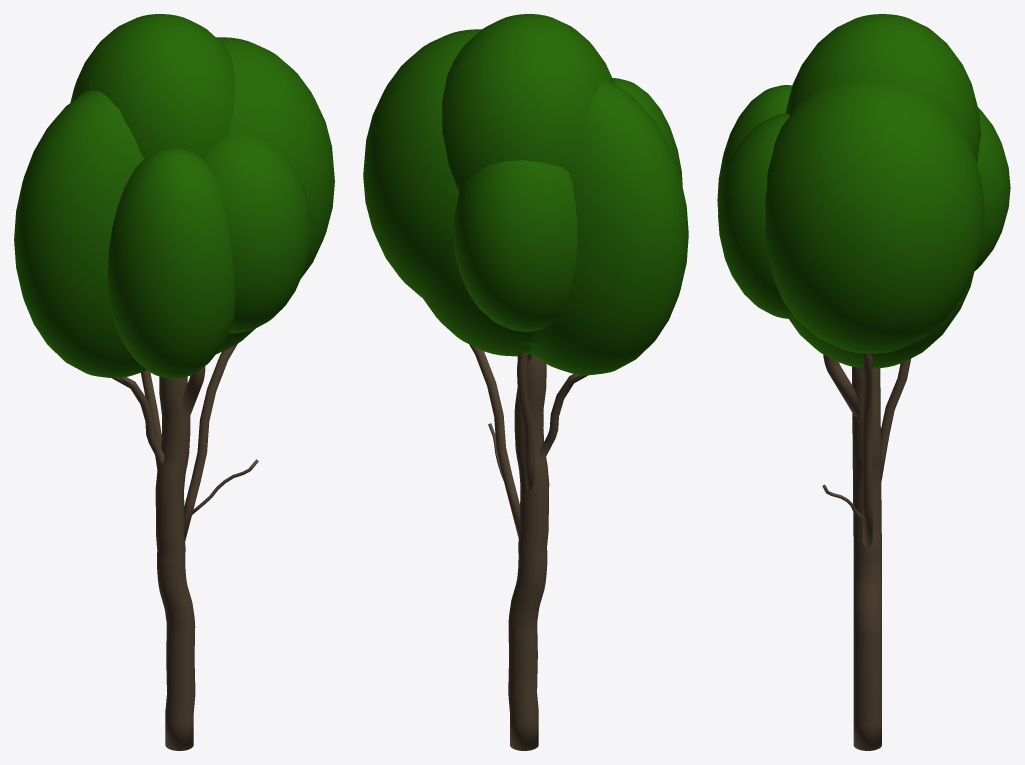
Rendered from Parktree.fbx.
The picture shows the model from 3 angles, left to right: view 1: azimuth 30°, elevation 25°; view 2: azimuth 150°, elevation 25°; view 3: azimuth 270°, elevation 25°; orthographic projection.
Parts seen in each view (by area): view 1: Sphere.001, Cylinder, Cylinder.003, Cylinder.002, Cylinder.004; view 2: Sphere.001, Cylinder, Cylinder.003, Cylinder.004; view 3: Sphere.001, Cylinder, Cylinder.003, Cylinder.004, Cylinder.002.
Boxes of the visible parts, <box> form: Sphere.001: <box>14,14,334,378</box>; Cylinder: <box>112,376,195,750</box>; Cylinder.003: <box>184,344,237,541</box>; Cylinder.002: <box>181,366,205,418</box>; Cylinder.004: <box>141,370,161,469</box>; Sphere.001: <box>363,14,688,375</box>; Cylinder: <box>508,354,587,750</box>; Cylinder.003: <box>469,344,519,538</box>; Cylinder.004: <box>517,352,534,491</box>; Sphere.001: <box>717,14,1010,368</box>; Cylinder: <box>852,366,881,750</box>; Cylinder.003: <box>863,353,872,547</box>; Cylinder.004: <box>881,358,911,481</box>; Cylinder.002: <box>823,354,859,416</box>.
Size of the model in its own units: 173 by 400 by 148.
